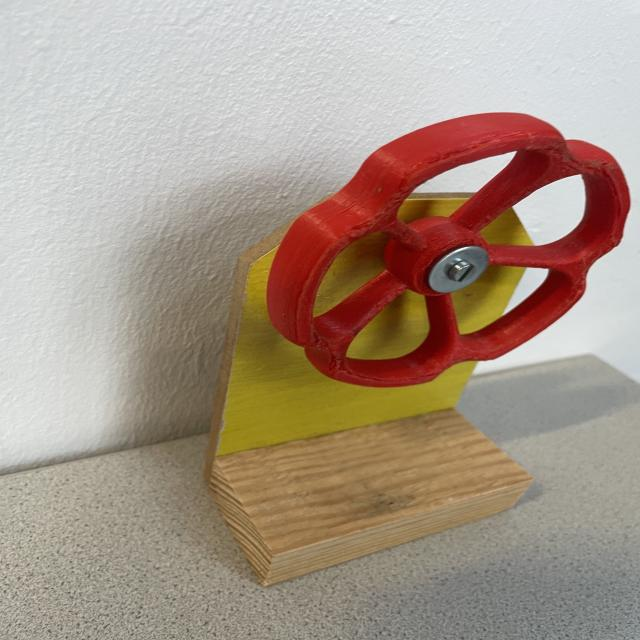Wheel Handle Valve Threaded: (256, 100, 640, 393)
